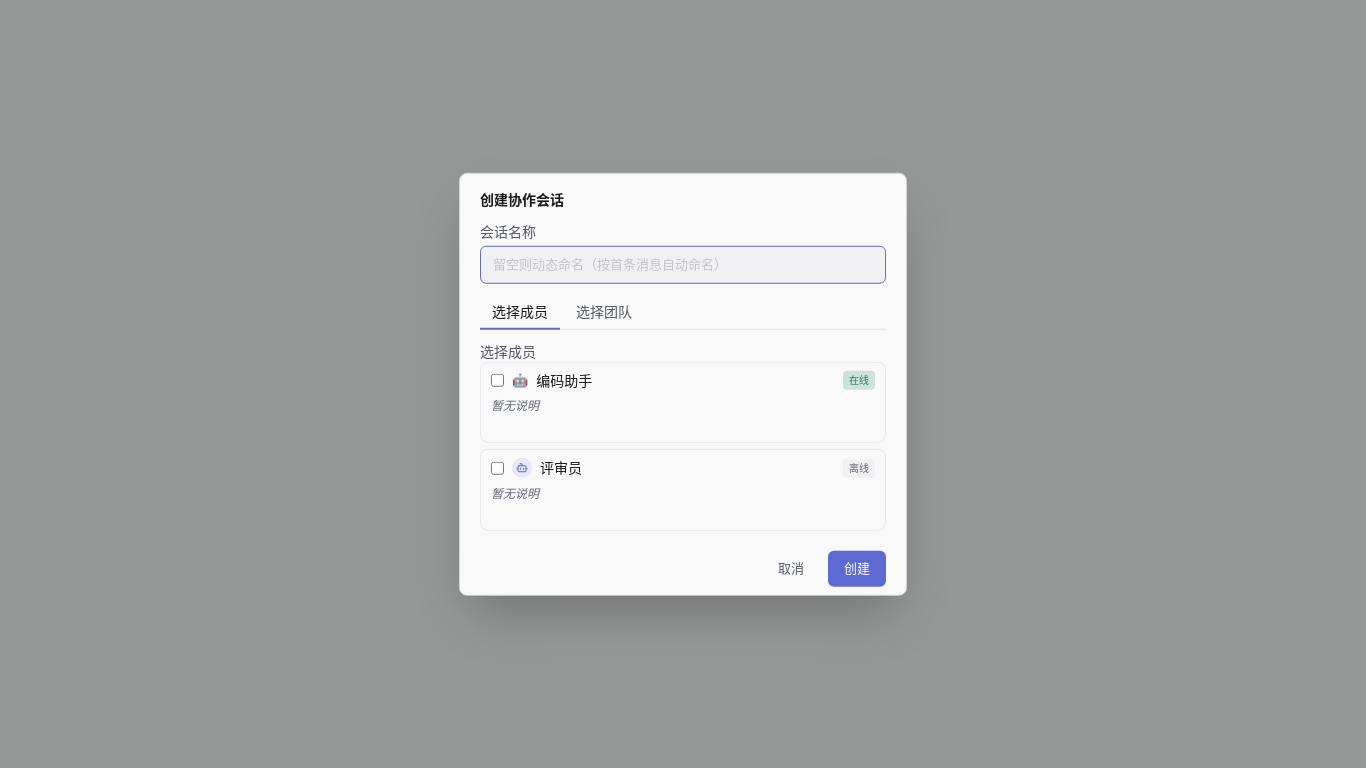
Test case: CollabSessionDialog — 成员多选与主 agent（Task 11，预览 B rev2 批准交互） › 2. 点第二个成员 radio → 互斥切换 + Crown 徽标随迁
What coordinates should you click on to do the following:
click the checkbox labelled "编码助手"
I would click on:
 (498, 380)
Its box is [491, 374, 504, 387].
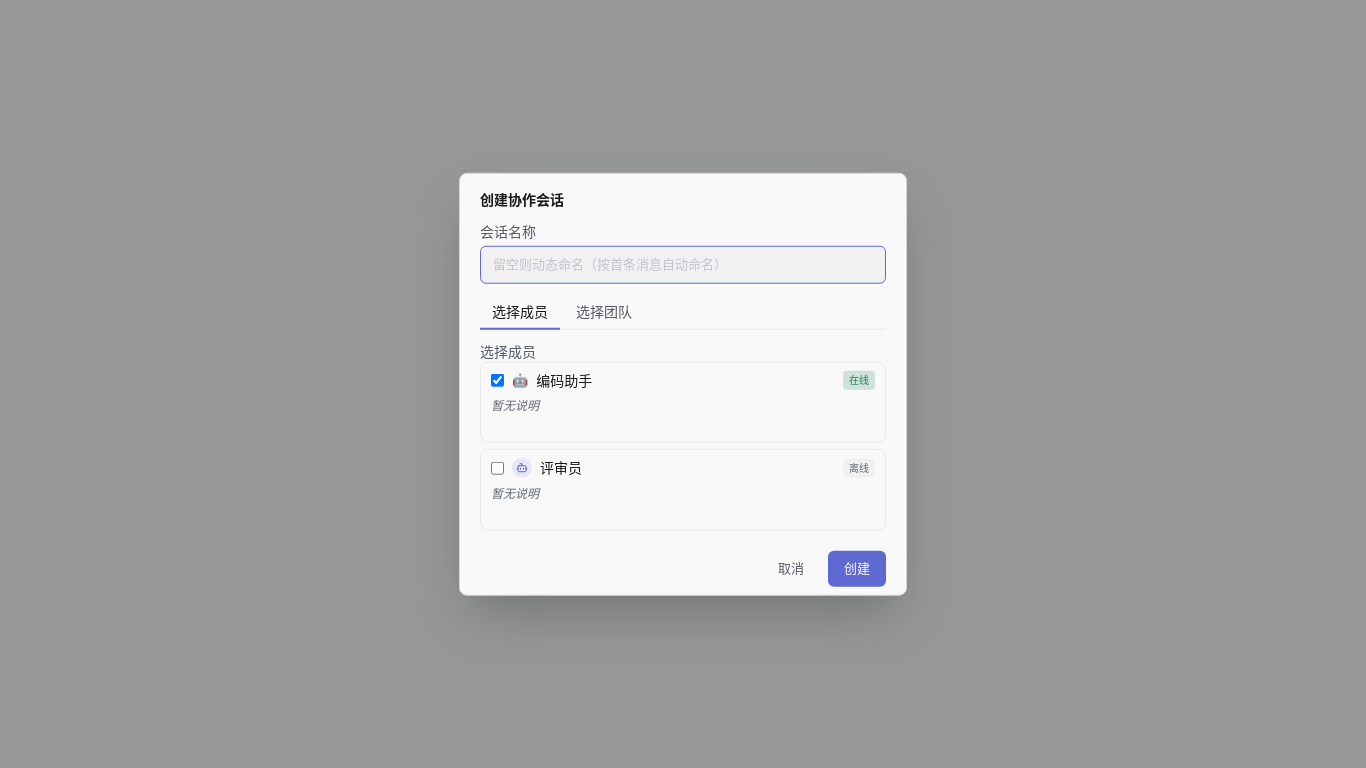
What coordinates should you click on to do the following:
click the checkbox labelled "评审员"
I would click on:
 (498, 468)
Its box is [491, 462, 504, 474].
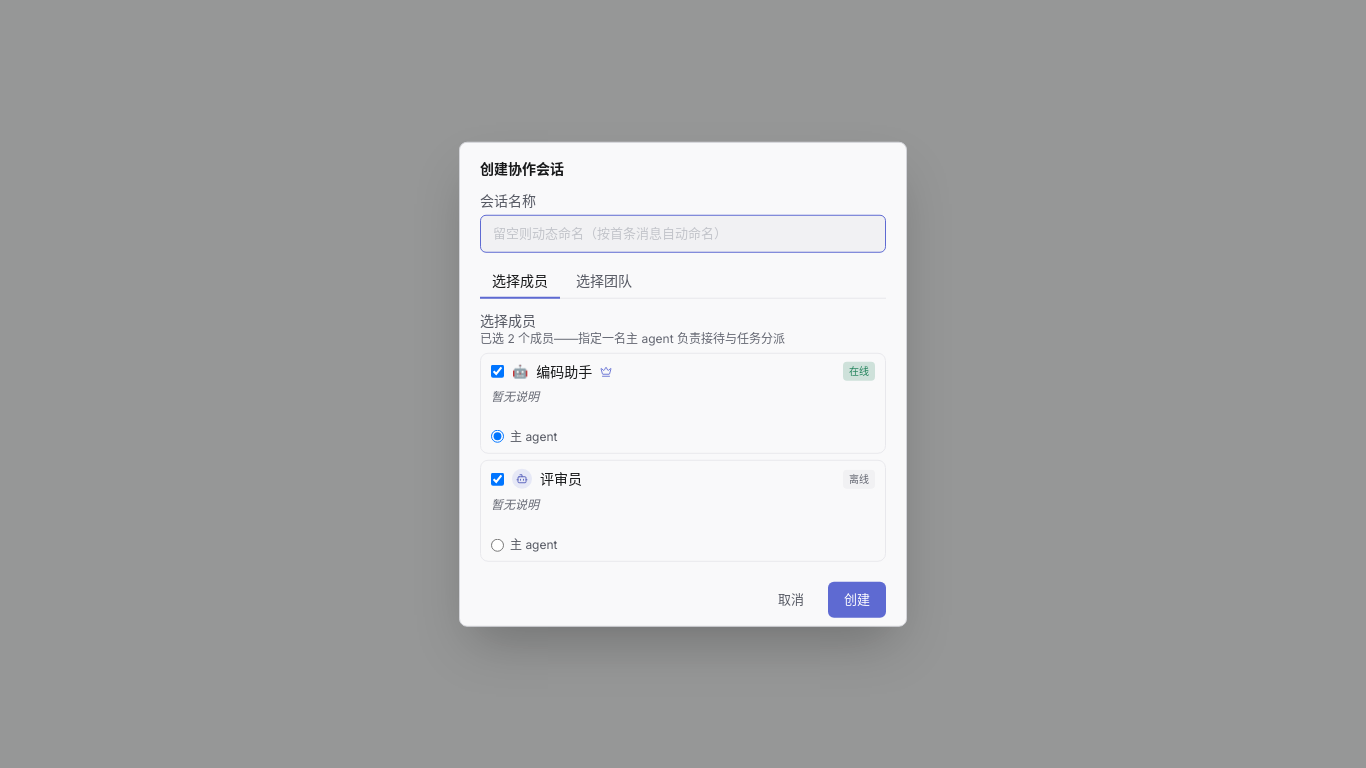
What coordinates should you click on to do the following:
click the radio button with test id "leader-radio-inst-2"
I would click on:
 (498, 545)
Its box is [491, 538, 504, 551].
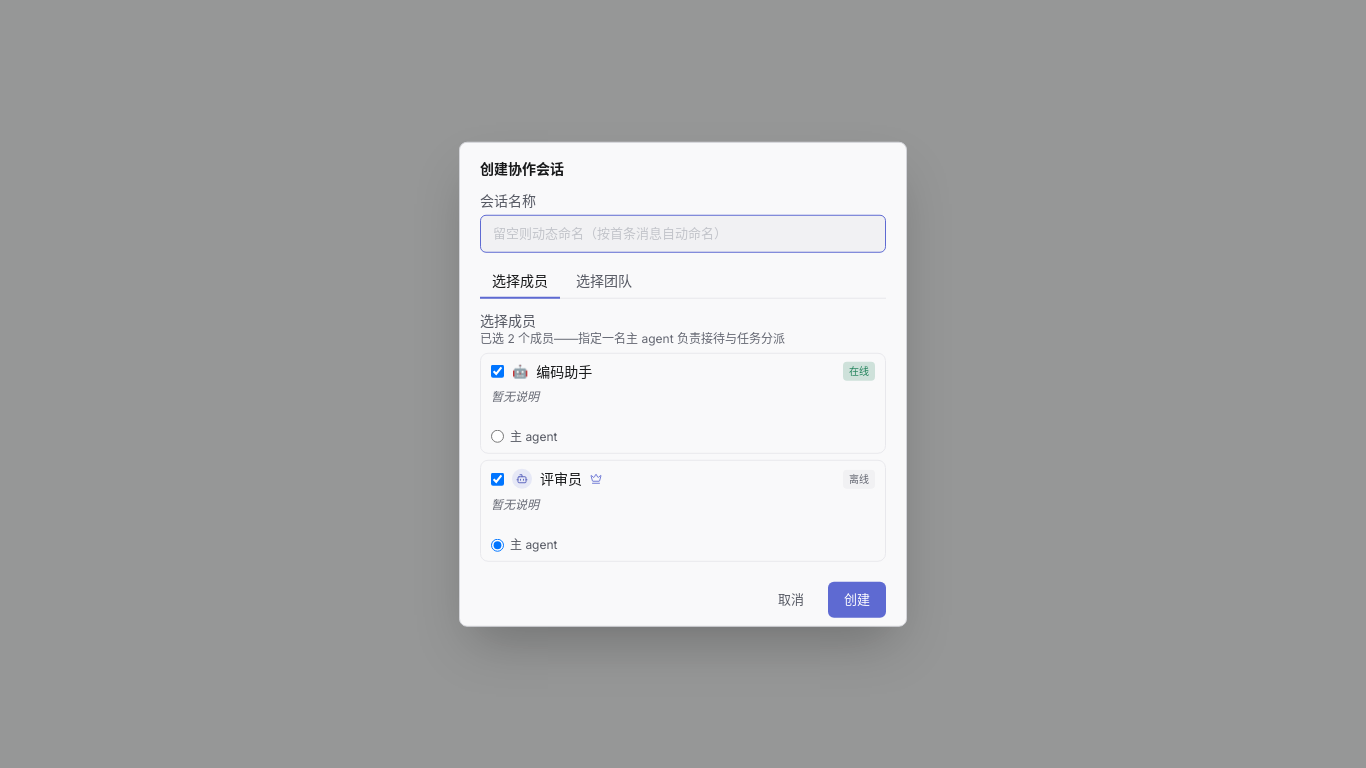
expect the radio button with test id "leader-radio-inst-2" is checked: met, box [491, 538, 504, 551]
expect the radio button with test id "leader-radio-inst-1" is not checked: met, box [491, 430, 504, 443]
expect the element with test id "leader-badge-inst-1" is gone: met
